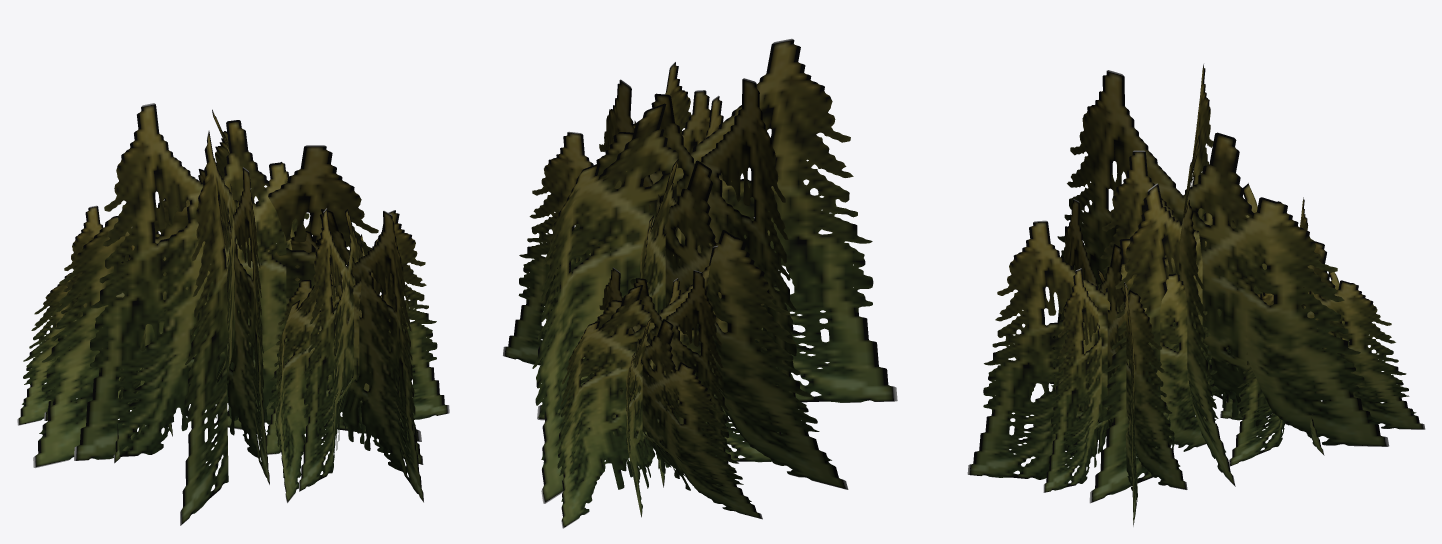
The model's file is Vinesauce.fbx.
3 views of the same model, side by side, from view 1: azimuth 30°, elevation 25°; view 2: azimuth 150°, elevation 25°; view 3: azimuth 270°, elevation 25° (orthographic). The views are drawn at different scales.
Parts seen in each view (by area): view 1: Vinesauce; view 2: Vinesauce; view 3: Vinesauce.
Boxes of the visible parts, <box> form: Vinesauce: <box>17,103,449,525</box>; Vinesauce: <box>503,38,897,528</box>; Vinesauce: <box>967,64,1425,526</box>.
Bounding box in the file's own units: 644 × 580 × 710.
Materials: 1 (1 with a texture image).
